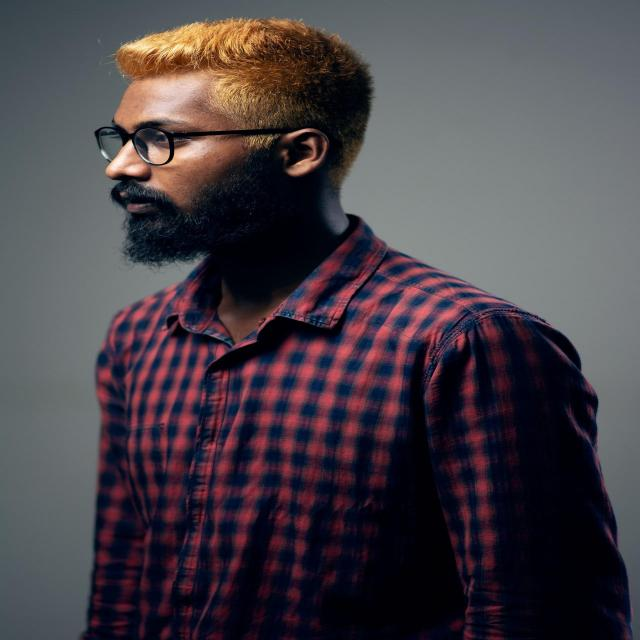person: (58, 17, 637, 639)
